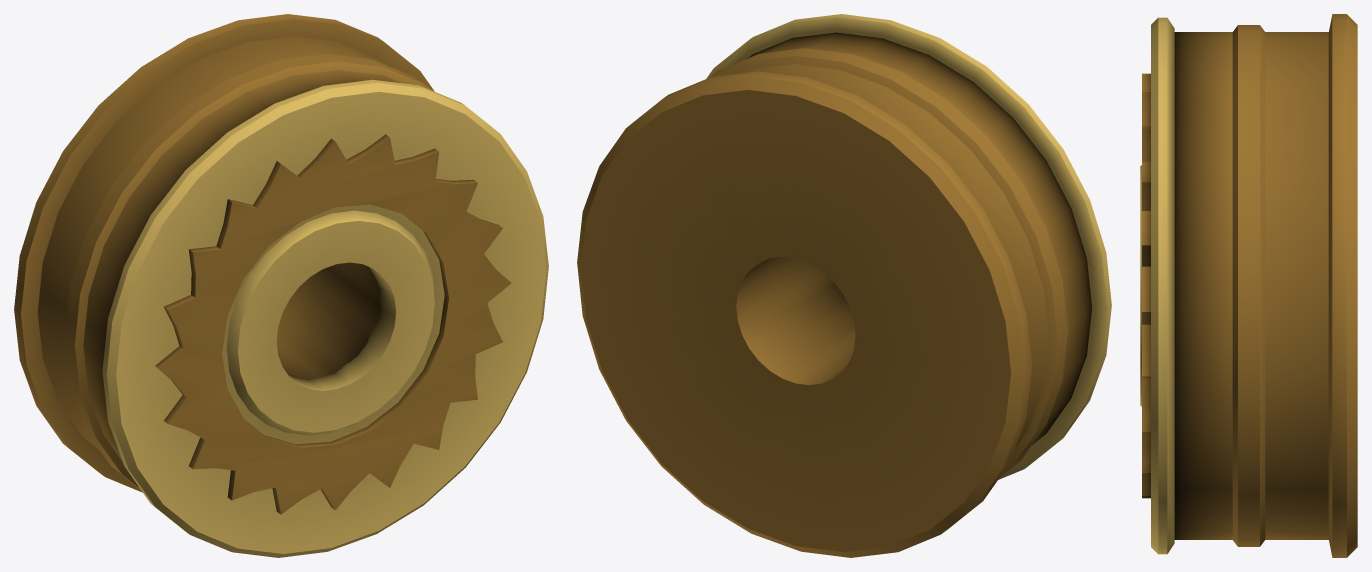
The model's file is spring_barrel.glb.
The picture shows the model from 3 angles, left to right: view 1: azimuth 30°, elevation 25°; view 2: azimuth 150°, elevation 25°; view 3: azimuth 270°, elevation 25°; orthographic projection. The views are drawn at different scales.
Parts seen in each view (by area): view 1: SpringBarrel; view 2: SpringBarrel; view 3: SpringBarrel.
Part boxes in pixels (box(x1,y1,x2,y2)): SpringBarrel: box(14, 14, 548, 557); SpringBarrel: box(577, 14, 1111, 557); SpringBarrel: box(1140, 14, 1357, 557).
Size of the model in its own units: 0.03 by 0.03 by 0.012.
